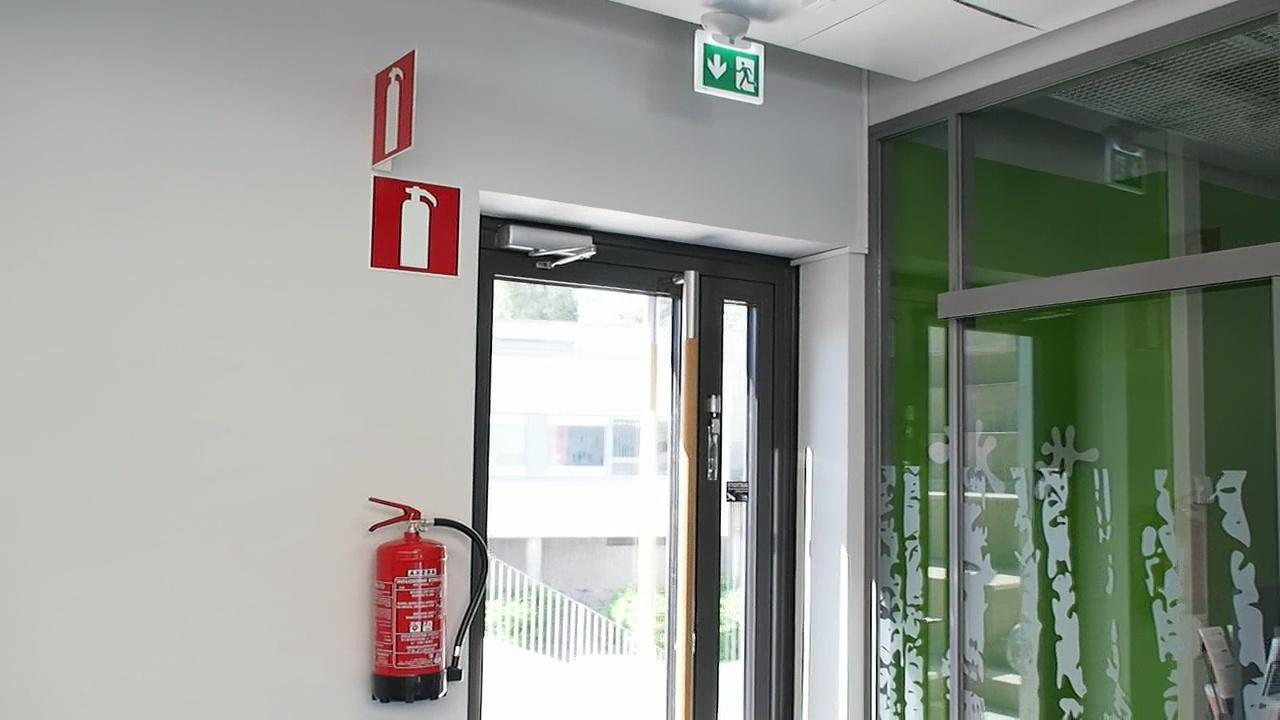exit: (697, 40, 764, 94)
fireextinguisher: (360, 496, 470, 712), (367, 171, 458, 272), (365, 49, 414, 152)
